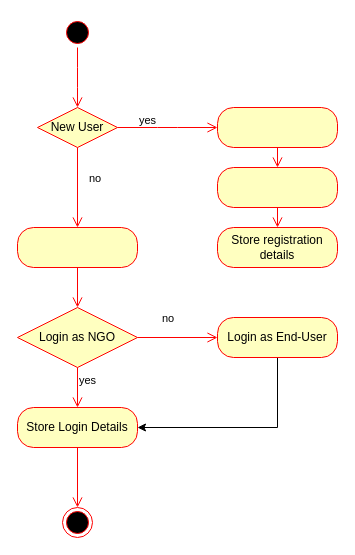
Image size: 355x555. Some labels were removed from this diagram. Here are the shapes that lost their labels. From the top down, the centre of each, then its label:
At point (277, 127): "Registration".
At point (277, 187): "Activity".
At point (77, 247): "Login".
